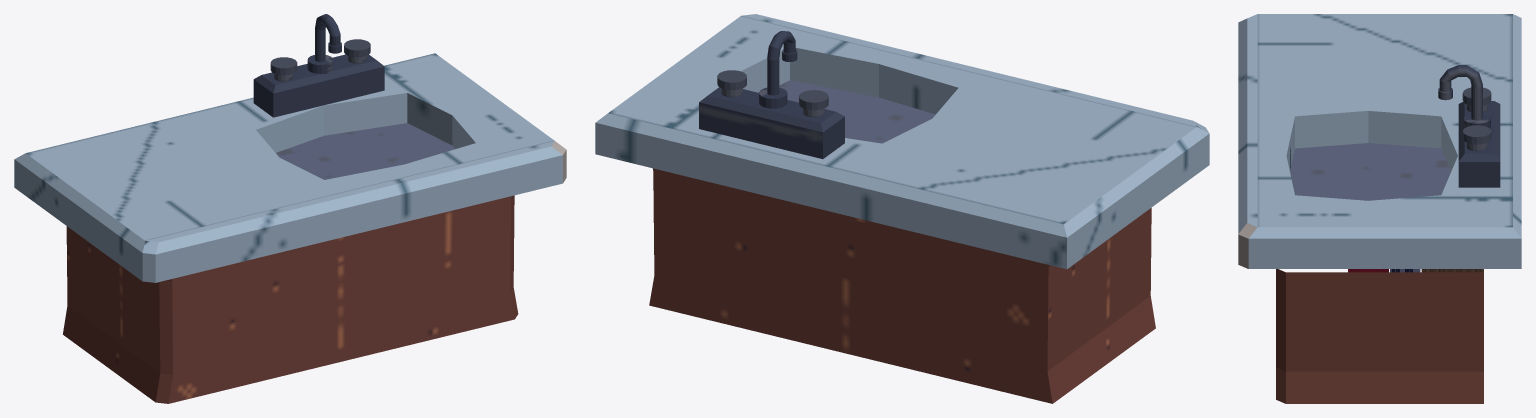
Rendered from Torneira.fbx.
The picture shows the model from 3 angles, left to right: view 1: azimuth 30°, elevation 25°; view 2: azimuth 150°, elevation 25°; view 3: azimuth 270°, elevation 25°; orthographic projection. The views are drawn at different scales.
Visible parts, largest first — view 1: Torneira; view 2: Torneira; view 3: Torneira.
Part boxes in pixels (left/top/right/bottom): Torneira: left=14, top=14, right=566, bottom=403; Torneira: left=595, top=14, right=1209, bottom=403; Torneira: left=1238, top=14, right=1521, bottom=403.
Size of the model in its own units: 212 by 115 by 126.
